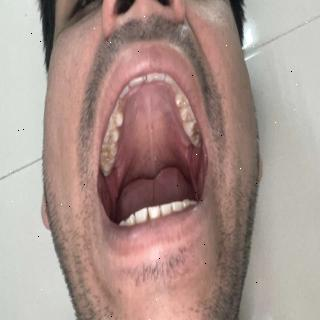calculus: (100, 143, 114, 169), (188, 123, 204, 144), (108, 110, 118, 132)
